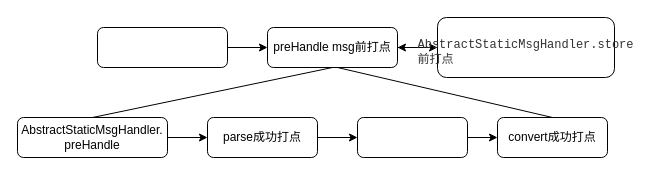
Some shapes in this 651 by 175 pixel diagram are drawn without their labels. The box of each missing label's shape, as (x1, y1, x2, y2) in pixels:
filter成功打点: (356, 116, 468, 158)
接受mq消息: (96, 26, 228, 68)
